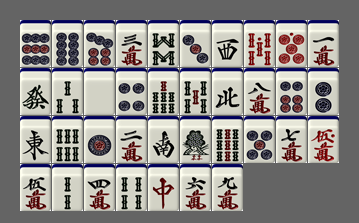0m: (308, 116, 339, 163)
0p: (276, 20, 307, 67)
0s: (244, 20, 275, 67)
1m: (308, 20, 339, 67)
1p: (84, 116, 115, 163)
1s: (180, 116, 211, 163)
1z: (20, 116, 51, 163)
2m: (116, 116, 147, 163)
2p: (308, 68, 339, 115)
2s: (52, 164, 83, 211)
2z: (148, 116, 179, 163)
3m: (116, 20, 147, 67)
3p: (180, 20, 211, 67)
3s: (52, 68, 83, 115)
3z: (212, 20, 243, 67)
4m: (84, 164, 115, 211)
4p: (116, 68, 147, 115)
4s: (116, 164, 147, 211)
4z: (212, 68, 243, 115)
5m: (20, 164, 51, 211)
5p: (244, 116, 275, 163)
5s: (180, 68, 211, 115)
5z: (84, 68, 115, 115)
6m: (180, 164, 211, 211)
6p: (276, 68, 307, 115)
6s: (52, 116, 83, 163)
6z: (20, 68, 51, 115)
7m: (276, 116, 307, 163)
7p: (84, 20, 115, 67)
7s: (148, 68, 179, 115)
7z: (148, 164, 179, 211)
8m: (244, 68, 275, 115)
8p: (52, 20, 83, 67)
8s: (148, 20, 179, 67)
9m: (212, 164, 243, 211)
9p: (20, 20, 51, 67)
9s: (212, 116, 243, 163)
